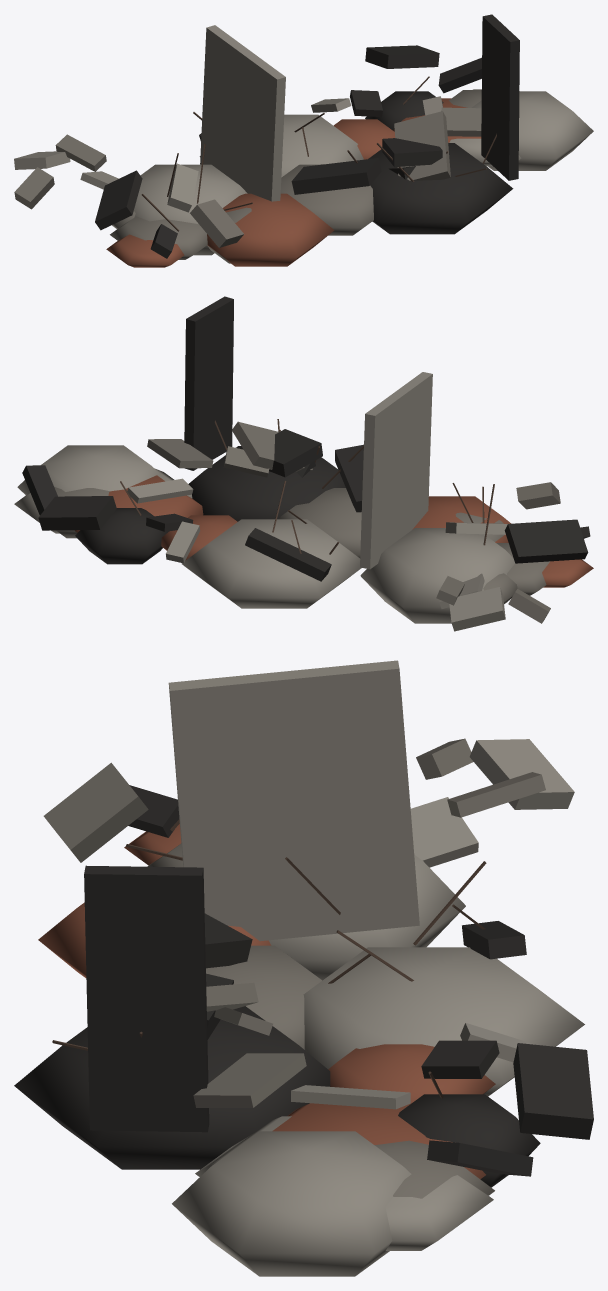
File: rubble_2x1.glb
3 views of the same model, one above another, from view 1: azimuth 30°, elevation 25°; view 2: azimuth 150°, elevation 25°; view 3: azimuth 270°, elevation 25° (orthographic). The views are drawn at different scales.
Parts seen in each view (by area): view 1: rubble_2x1; view 2: rubble_2x1; view 3: rubble_2x1.
Part boxes in pixels (left/top/right/bottom): rubble_2x1: left=14, top=14, right=593, bottom=267; rubble_2x1: left=14, top=296, right=593, bottom=631; rubble_2x1: left=14, top=660, right=593, bottom=1276.
Size of the model in its own units: 19.74 by 6.88 by 10.37.
